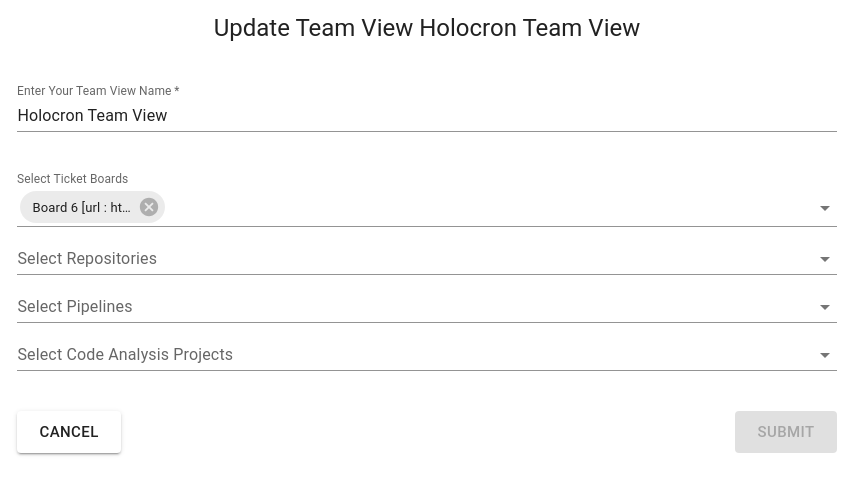
Form validation › projects field › should allow submission if projects get changed
In the dropdown labelled "Select Code Analysis Projects": (412, 354) [17,339,807,370], type "Code Analysis Project 1 [ [url : https://code.analysis.project.1.com]"
Then press Arrowdown, Enter
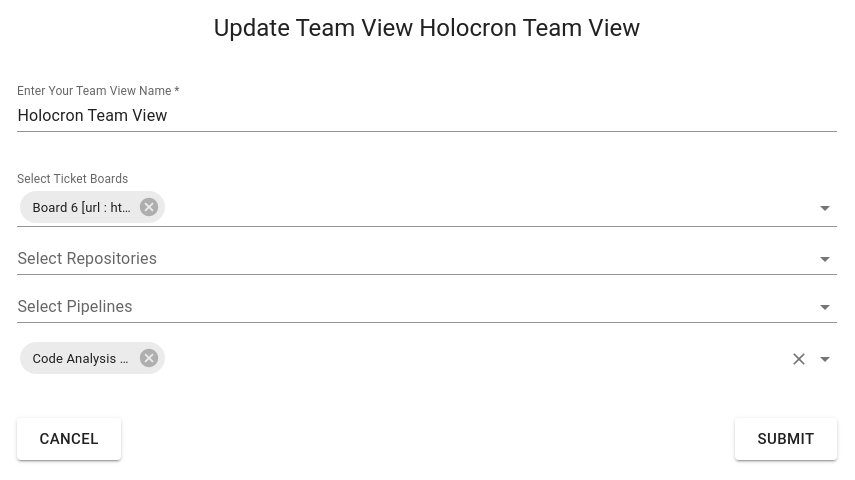
Expected: the button with aria-label "Submit Your Form" is enabled, [735,418,837,460]
